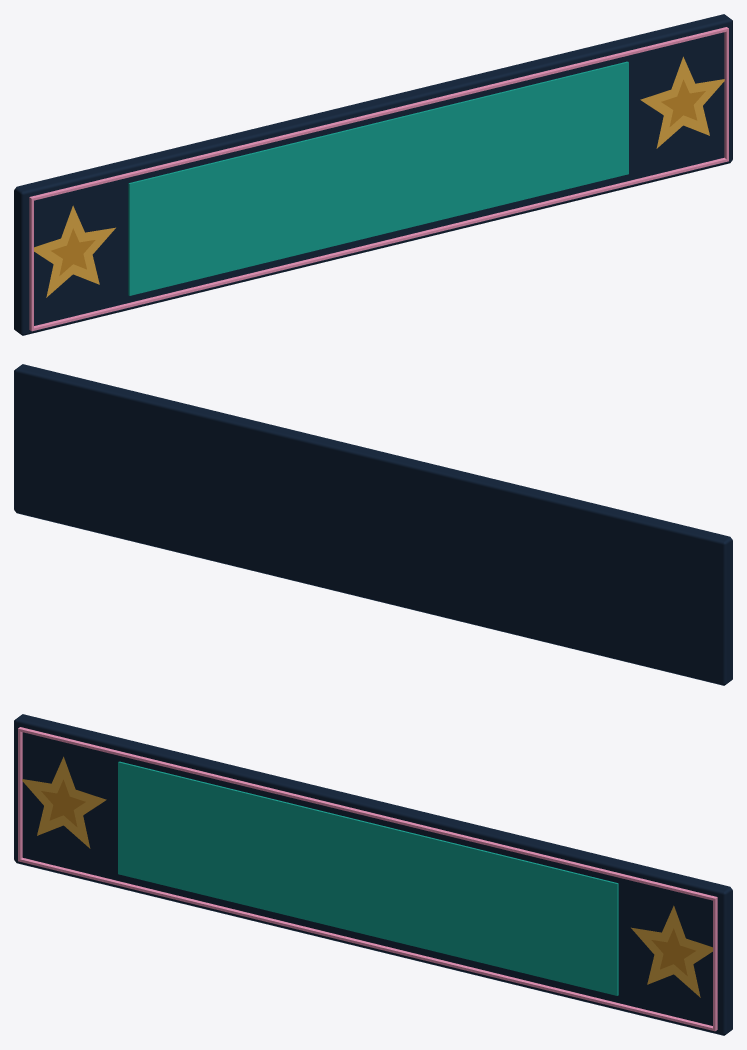
File: CM_Prop_MiniMartSign.fbx
The picture shows the model from 3 angles, top to bottom: view 1: azimuth 30°, elevation 25°; view 2: azimuth 150°, elevation 25°; view 3: azimuth 330°, elevation 25°; orthographic projection.
Visible parts, largest first — view 1: Face, Body, Neon; view 2: Body; view 3: Face, Body, Neon.
Boxes of the visible parts, x1,y1,x2,y2 form: Face: (128, 61, 628, 295); Body: (14, 14, 732, 335); Neon: (29, 27, 728, 331); Body: (14, 364, 732, 685); Face: (118, 761, 618, 995); Body: (14, 714, 732, 1035); Neon: (18, 727, 717, 1031).
Bounding box in the file's own units: 36 × 1 × 7.
Materials: 1 (1 with a texture image).
